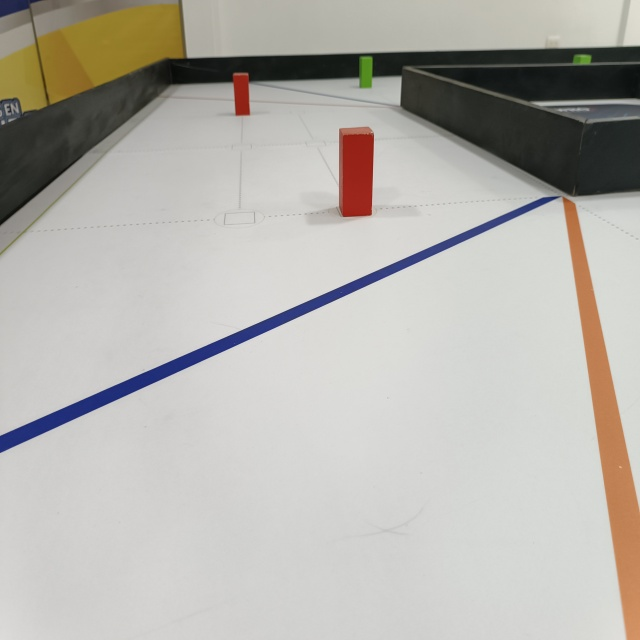blue line: (0, 190, 554, 456), (255, 78, 398, 107)
green rectangular prism: (360, 55, 373, 91)
orange line: (559, 194, 640, 640), (159, 96, 399, 109)
red rectangular prism: (336, 129, 374, 218), (231, 72, 252, 119)
